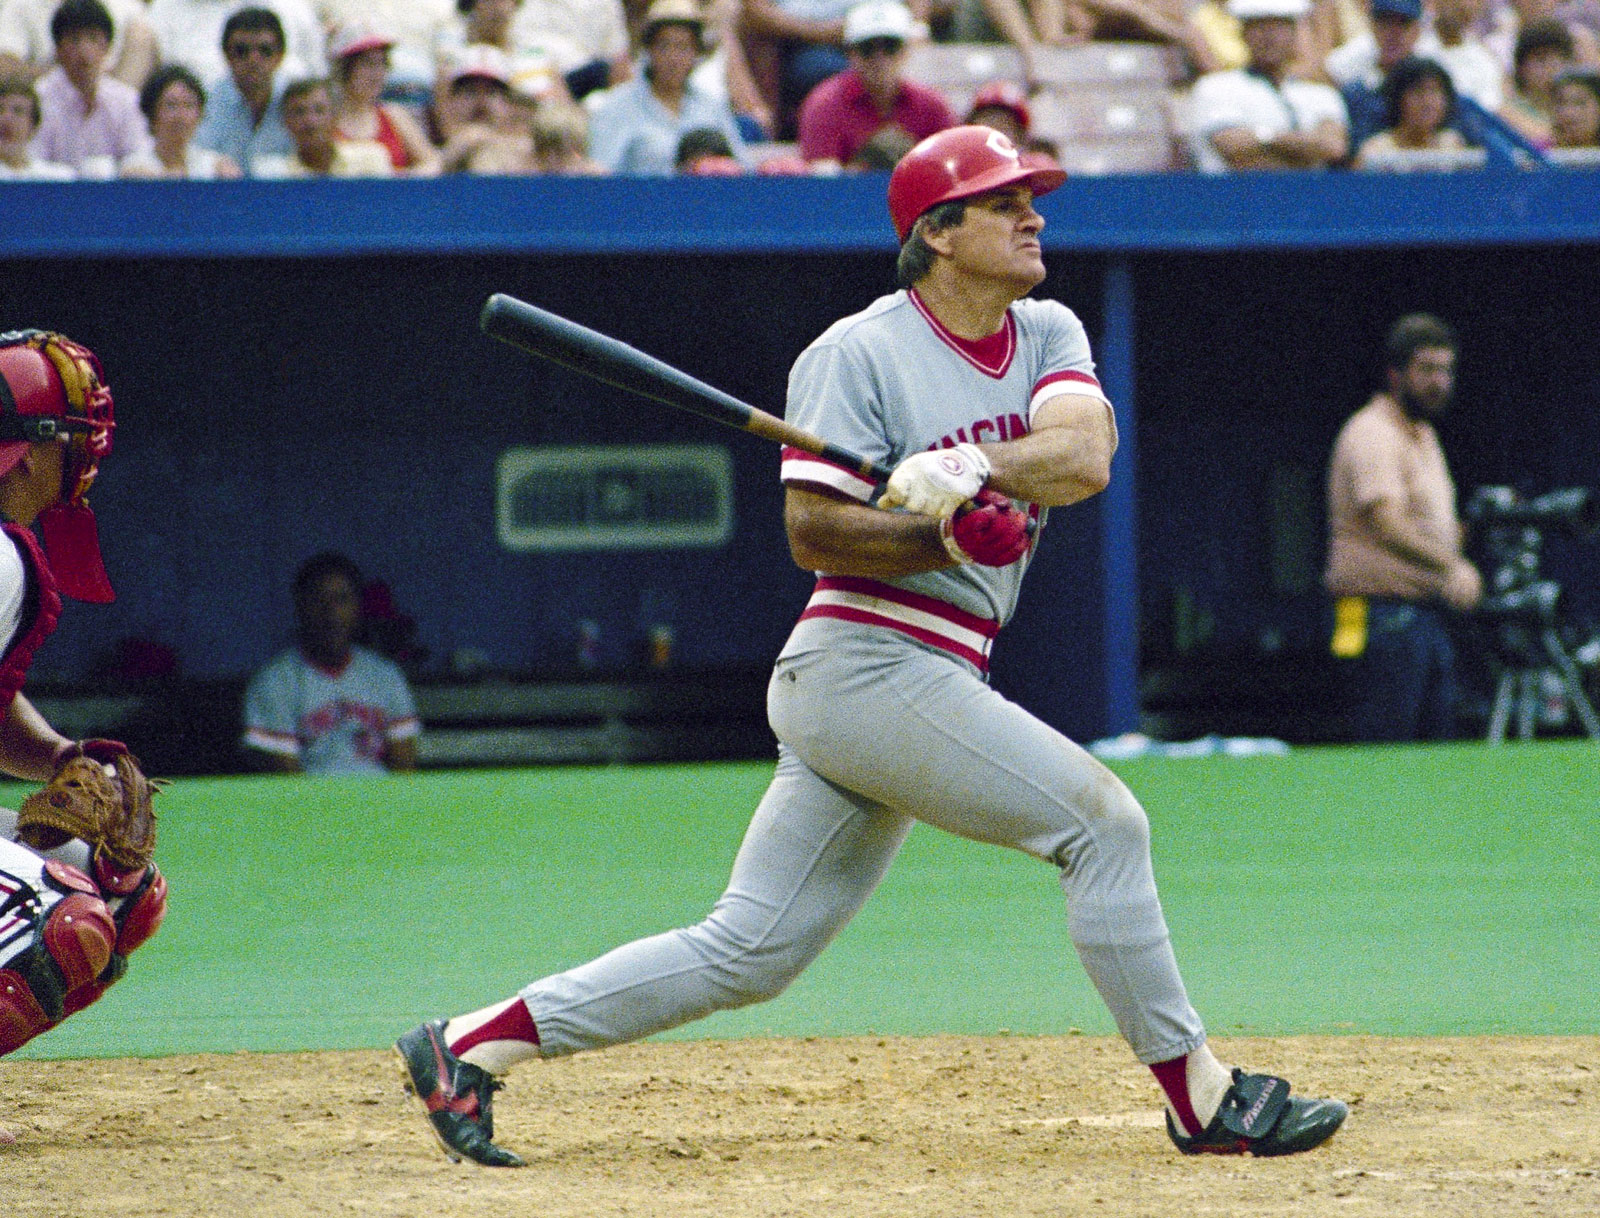LeftAnkle: (391, 970, 524, 1148)
LeftElbow: (1016, 384, 1124, 521)
LeftKnee: (673, 835, 804, 1045)
LeftShoulder: (1021, 287, 1110, 391)
RightAnkle: (1134, 1038, 1356, 1153)
RightElbow: (767, 493, 880, 604)
RightKnee: (1040, 708, 1177, 884)
RightShoulder: (776, 296, 880, 431)
